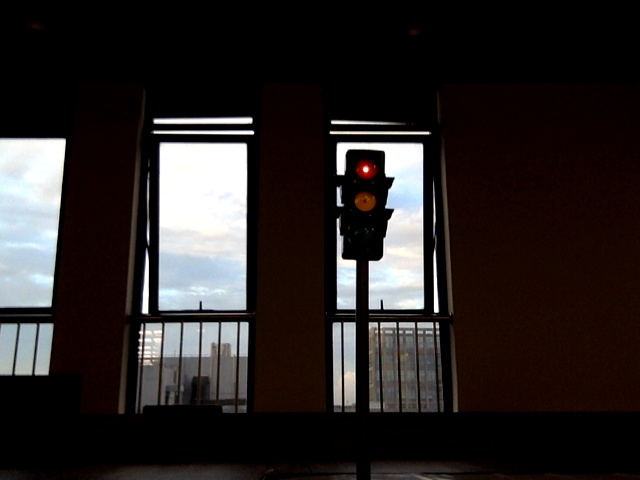red: (345, 155, 377, 252)
